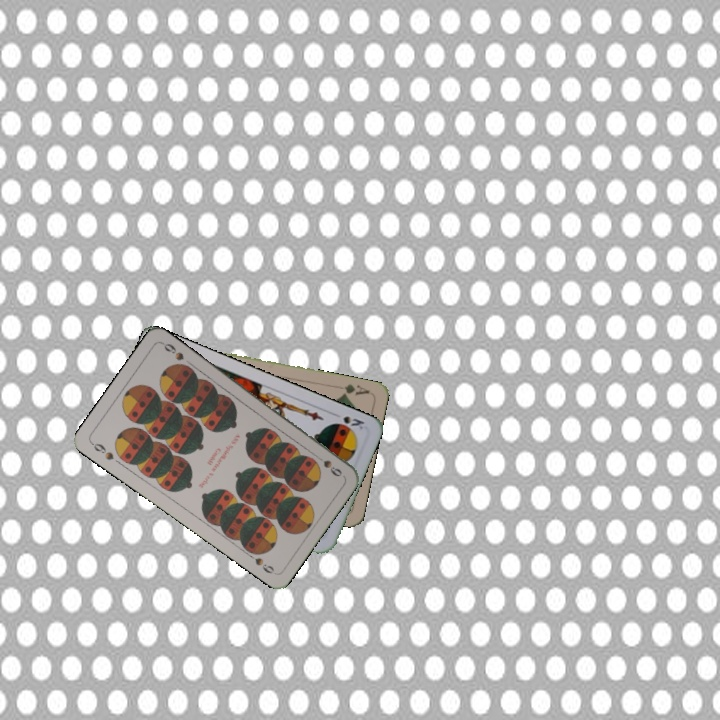GA: (332, 380, 372, 399)
S9: (310, 450, 345, 479), (87, 438, 116, 463)
SK: (329, 409, 367, 432)
